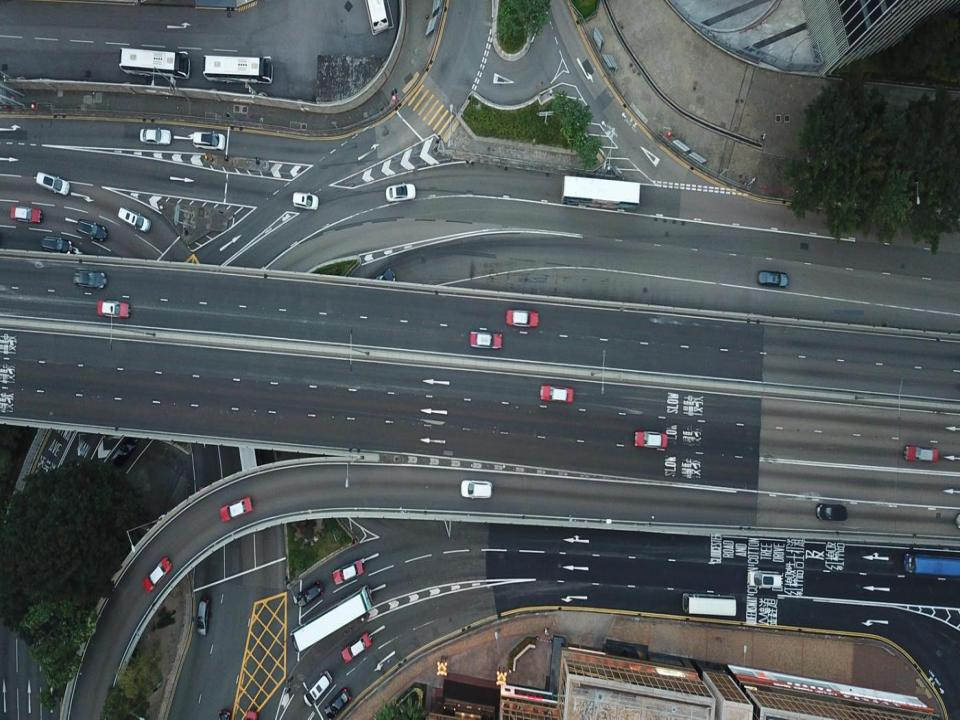bus: (290, 585, 374, 652), (562, 174, 641, 214), (202, 54, 274, 85), (119, 48, 190, 76), (903, 552, 960, 576), (682, 593, 736, 618), (366, 0, 388, 33)
car: (142, 557, 172, 592), (302, 668, 330, 704), (220, 494, 252, 524), (341, 632, 371, 664), (116, 206, 151, 231), (324, 688, 352, 718), (332, 560, 364, 585), (295, 580, 323, 608), (36, 172, 68, 195), (539, 385, 575, 404), (193, 130, 224, 152), (75, 219, 106, 241), (73, 270, 107, 290), (110, 439, 137, 464), (460, 479, 492, 500), (903, 445, 938, 464), (747, 570, 783, 588), (384, 182, 416, 202), (10, 204, 42, 224), (42, 236, 71, 258), (633, 429, 668, 447), (505, 310, 538, 329), (757, 270, 788, 290), (468, 331, 502, 349), (816, 503, 846, 522), (372, 268, 395, 292), (139, 128, 171, 144), (96, 300, 130, 315), (292, 191, 318, 210), (196, 598, 209, 635), (199, 485, 210, 521)
